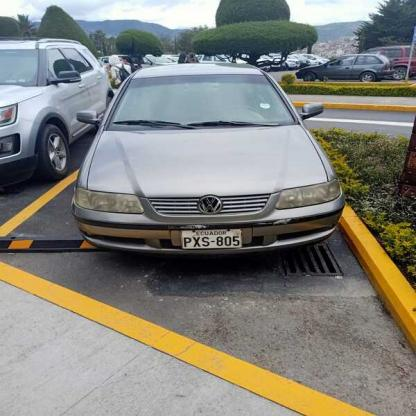Placa: (183, 228, 247, 254)
